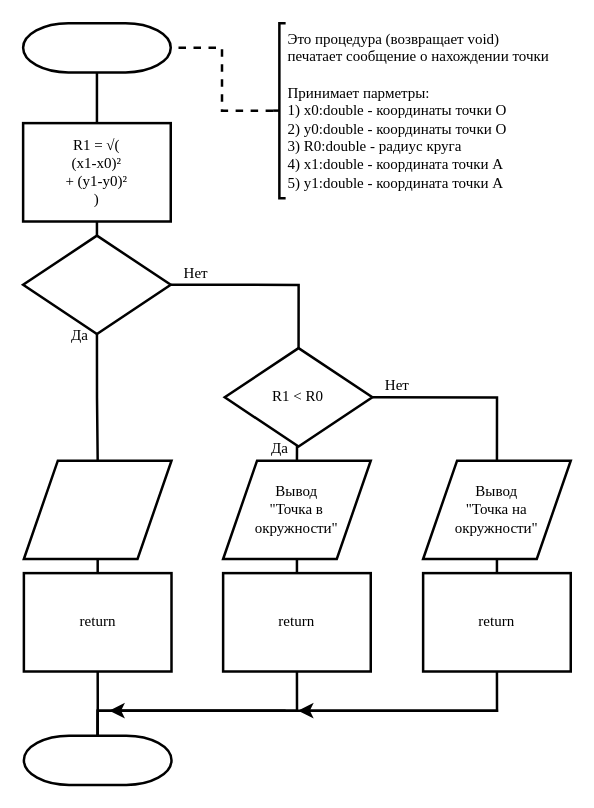
Image size: 594x808. Some labels were removed from this diagram. Each missing label, with the centre of its shape:
R1 > R0: [96,284]
Вывод "Точка за окружностью": [97,509]
Конец: [97,760]
Начало: [96,47]
